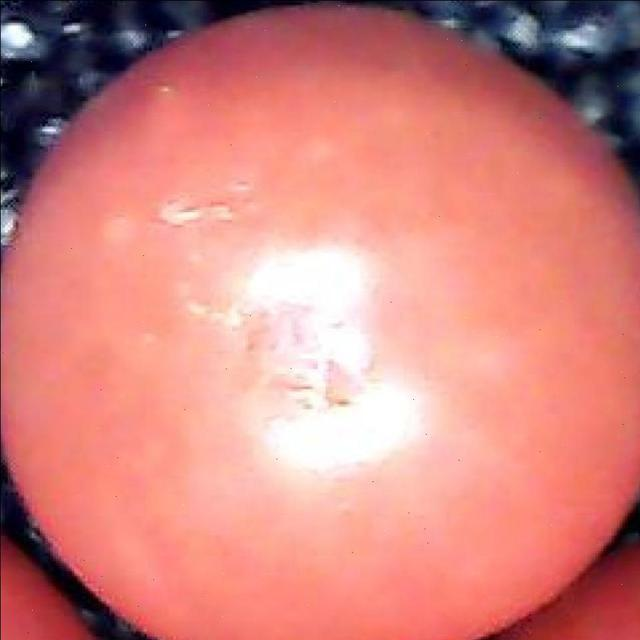Healthy Fruit: (7, 6, 427, 427)
